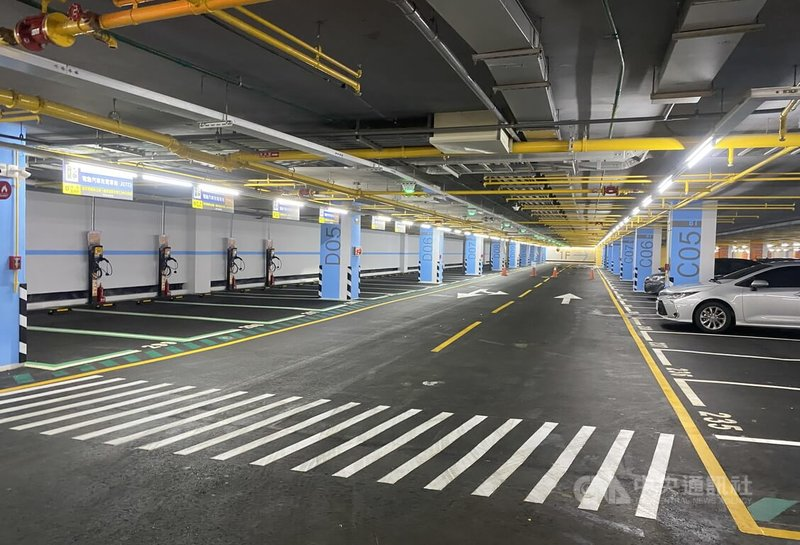car: (652, 254, 800, 335), (642, 262, 666, 301)
